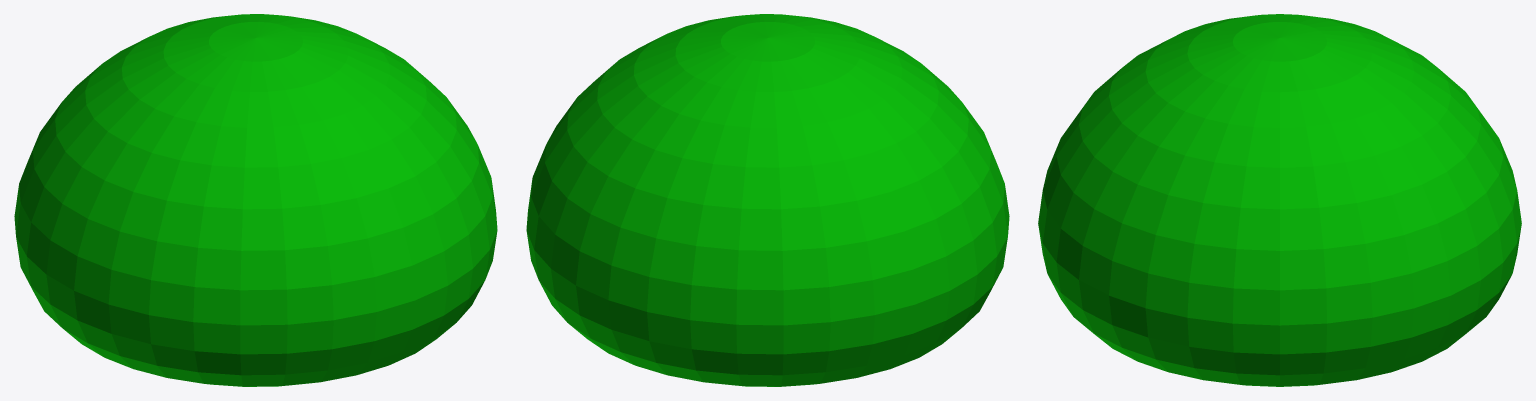
File: SlimeProper.fbx
3 renders of one model, left to right at view 1: azimuth 30°, elevation 25°; view 2: azimuth 150°, elevation 25°; view 3: azimuth 270°, elevation 25°, orthographic.
Parts seen in each view (by area): view 1: OuterSlime; view 2: OuterSlime; view 3: OuterSlime.
Part boxes in pixels (bbox=[...]): OuterSlime: bbox=[14, 14, 497, 386]; OuterSlime: bbox=[526, 14, 1009, 386]; OuterSlime: bbox=[1038, 14, 1521, 386].
Bounding box in the file's own units: 230 × 147 × 230.
